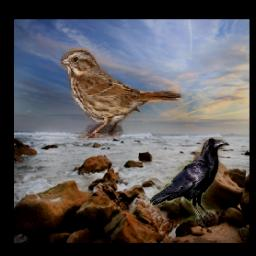Crow: (150, 137, 226, 225)
Sparrow: (60, 45, 182, 140)
